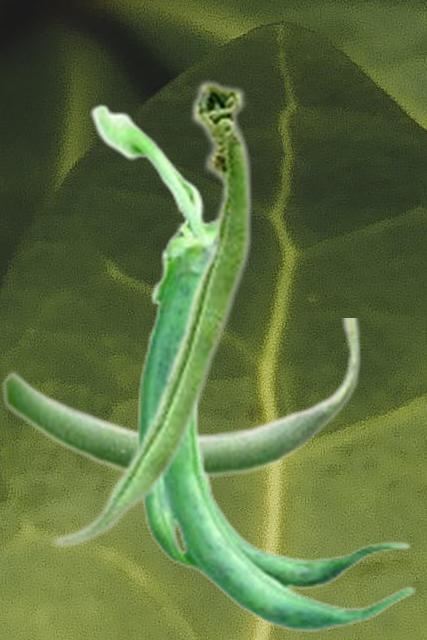french_bean: (89, 103, 414, 632), (51, 77, 252, 548), (1, 318, 361, 479)
